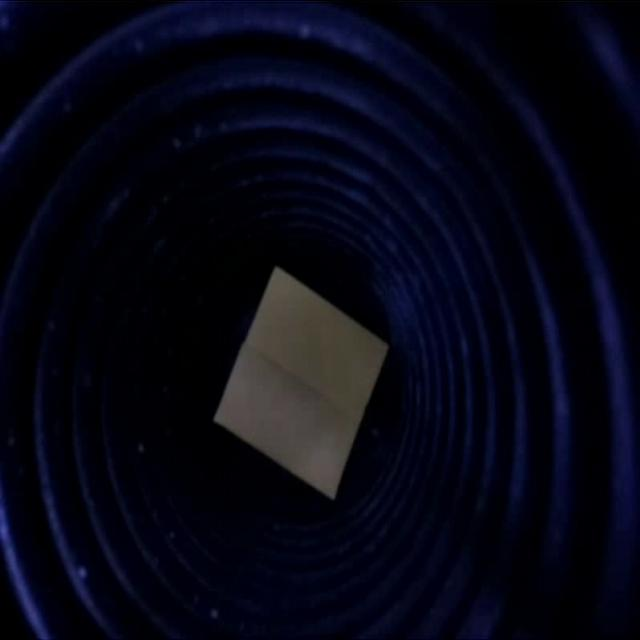obstacles: (215, 264, 393, 503)
